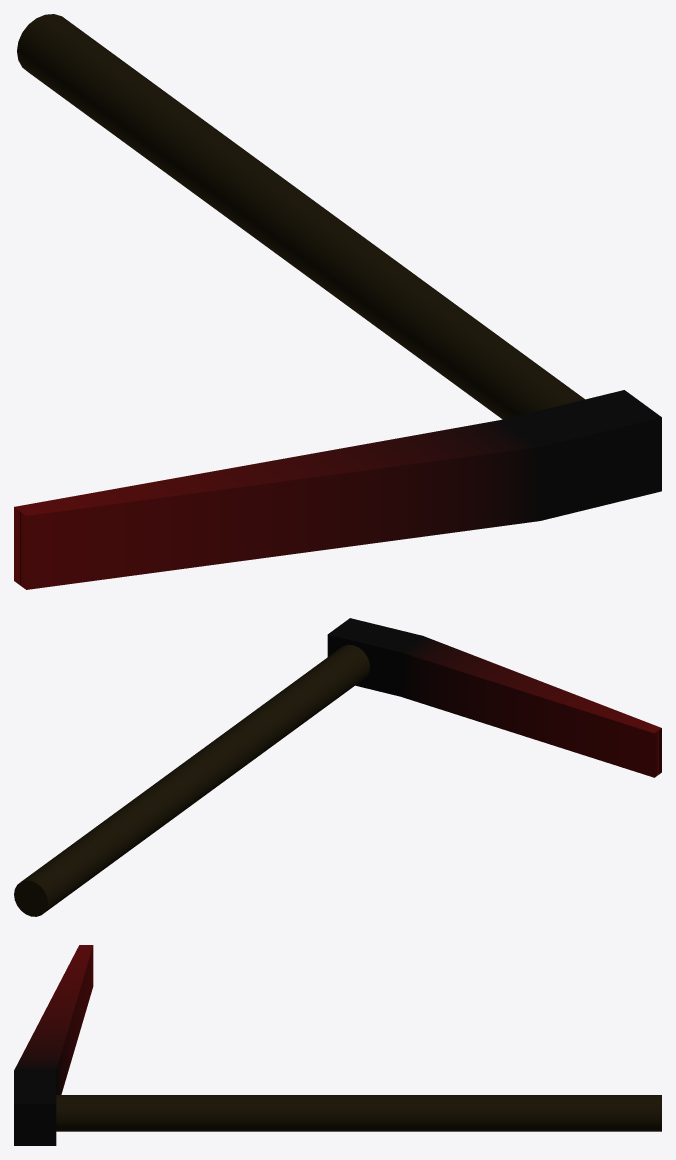
File: Sickle.fbx
The picture shows the model from 3 angles, top to bottom: view 1: azimuth 30°, elevation 25°; view 2: azimuth 150°, elevation 25°; view 3: azimuth 270°, elevation 25°; orthographic projection. The views are drawn at different scales.
Visible parts, largest first — view 1: sickle; view 2: sickle; view 3: sickle.
Boxes of the visible parts, x1,y1,x2,y2 form: sickle: (14,14,661,589); sickle: (14,618,661,916); sickle: (14,945,661,1145).
Bounding box in the file's own units: 0.7501 × 0.0918 × 1.29.
